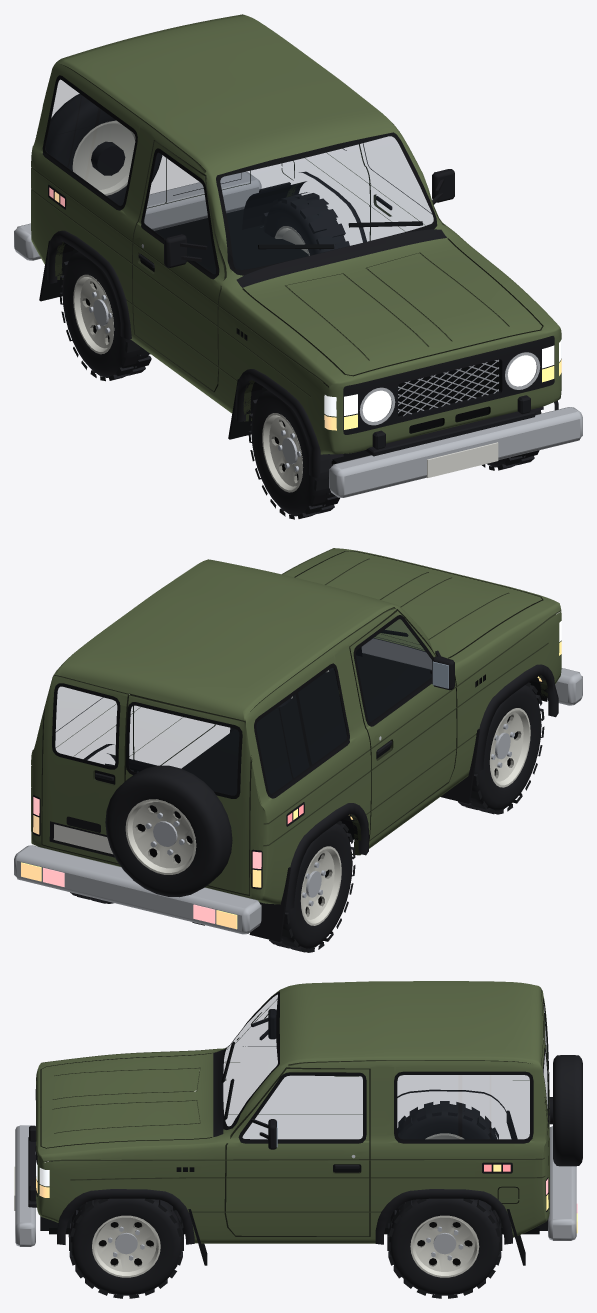
The model's file is car_offroad_green.glb.
3 views of the same model, one above another, from view 1: azimuth 30°, elevation 25°; view 2: azimuth 150°, elevation 25°; view 3: azimuth 270°, elevation 25° (orthographic). The views are drawn at different scales.
Visible parts, largest first — view 1: body, wheel_fl, wheel_rl, spare, wheel_rr; view 2: body, spare, wheel_rl, wheel_fl; view 3: body, wheel_rr, wheel_fr, spare, wheel_rl.
Boxes of the visible parts, box(x1,y1,x2,y2) form: body: box(14, 14, 582, 497); wheel_fl: box(248, 387, 343, 519); wheel_rl: box(59, 249, 151, 381); spare: box(45, 93, 162, 205); wheel_rr: box(260, 192, 349, 255); body: box(14, 548, 582, 942); spare: box(105, 765, 232, 897); wheel_rl: box(269, 821, 355, 952); wheel_fl: box(458, 682, 544, 814); body: box(14, 981, 577, 1265); wheel_rr: box(387, 1198, 502, 1298); wheel_fr: box(68, 1198, 183, 1298); spare: box(553, 1055, 582, 1166); wheel_rl: box(397, 1101, 498, 1139).
Size of the model in its own units: 2.04 by 1.9 by 4.13.
